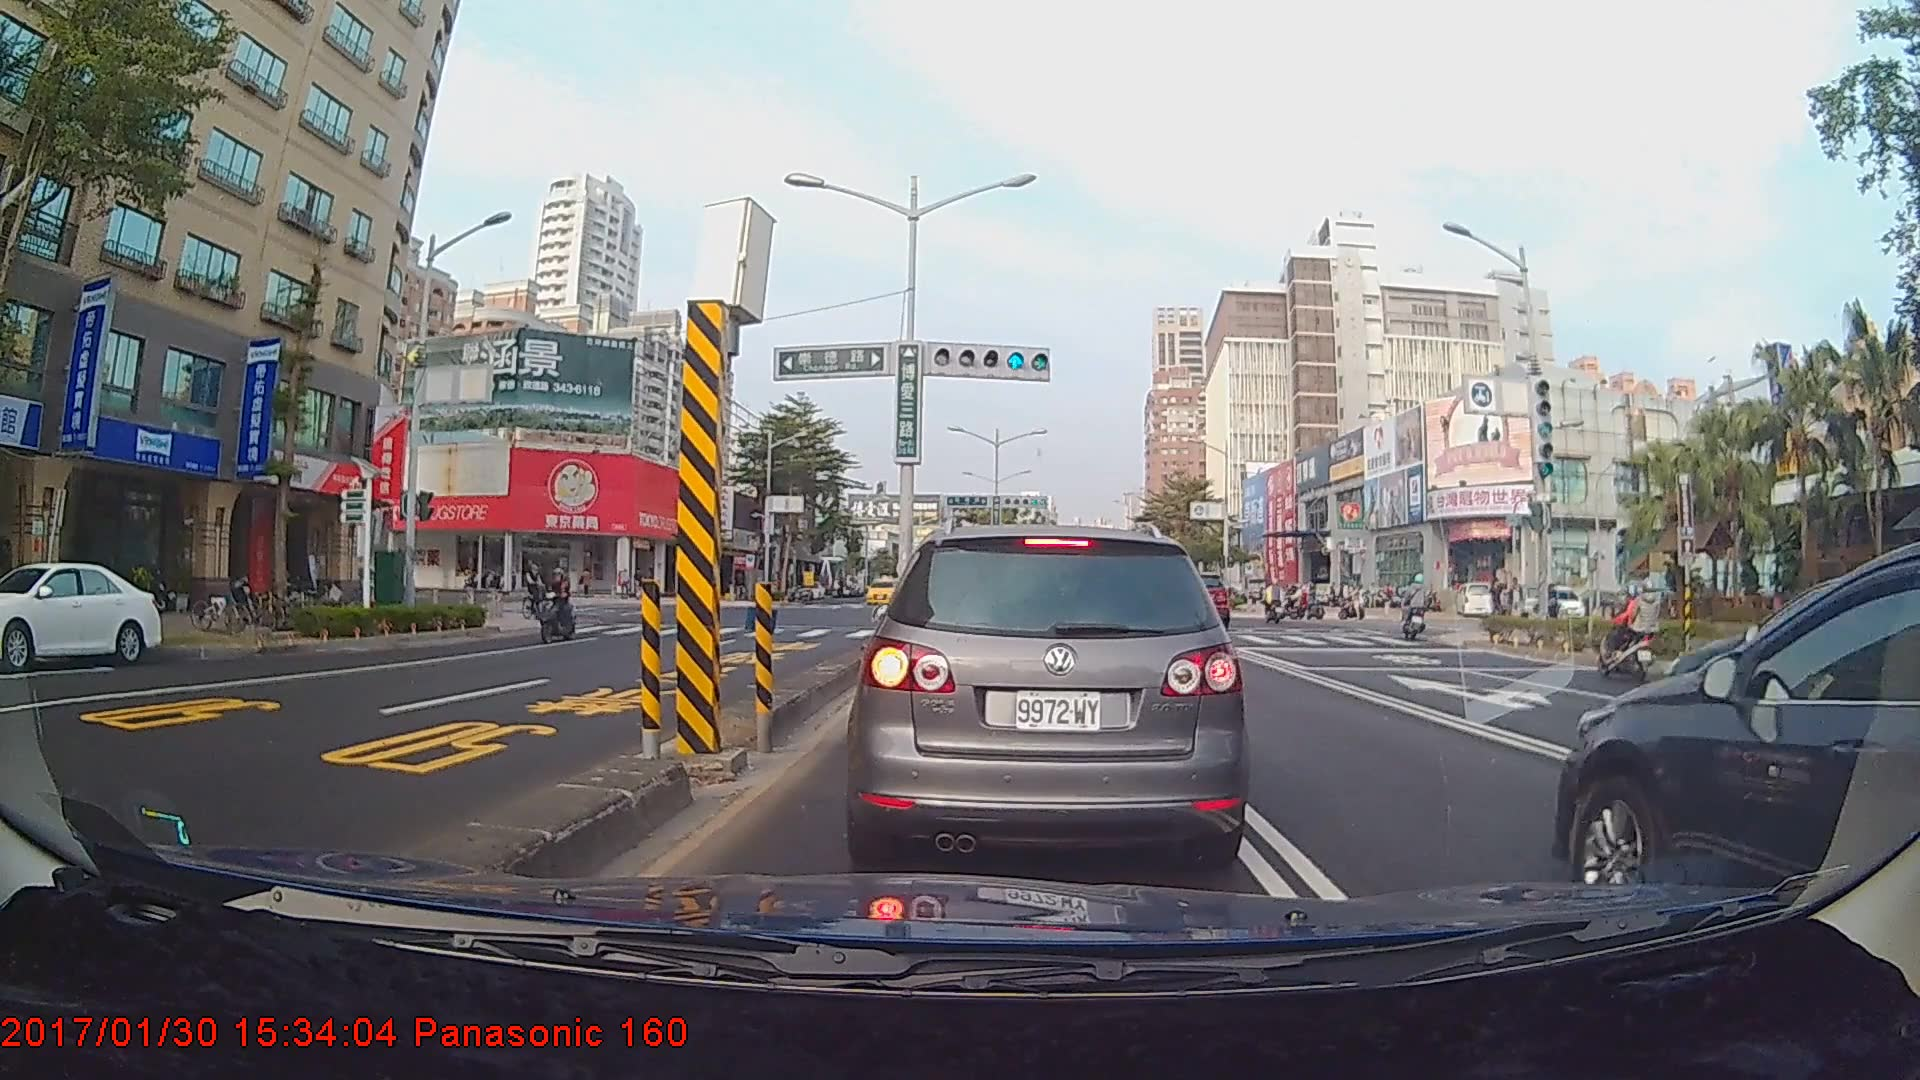rider: (539, 565, 586, 647), (1399, 572, 1440, 642), (518, 559, 561, 621), (1253, 574, 1283, 630)
vehicle: (861, 520, 1241, 869), (1554, 539, 1919, 884), (1676, 572, 1908, 772), (0, 561, 162, 671), (1145, 572, 1230, 632)
